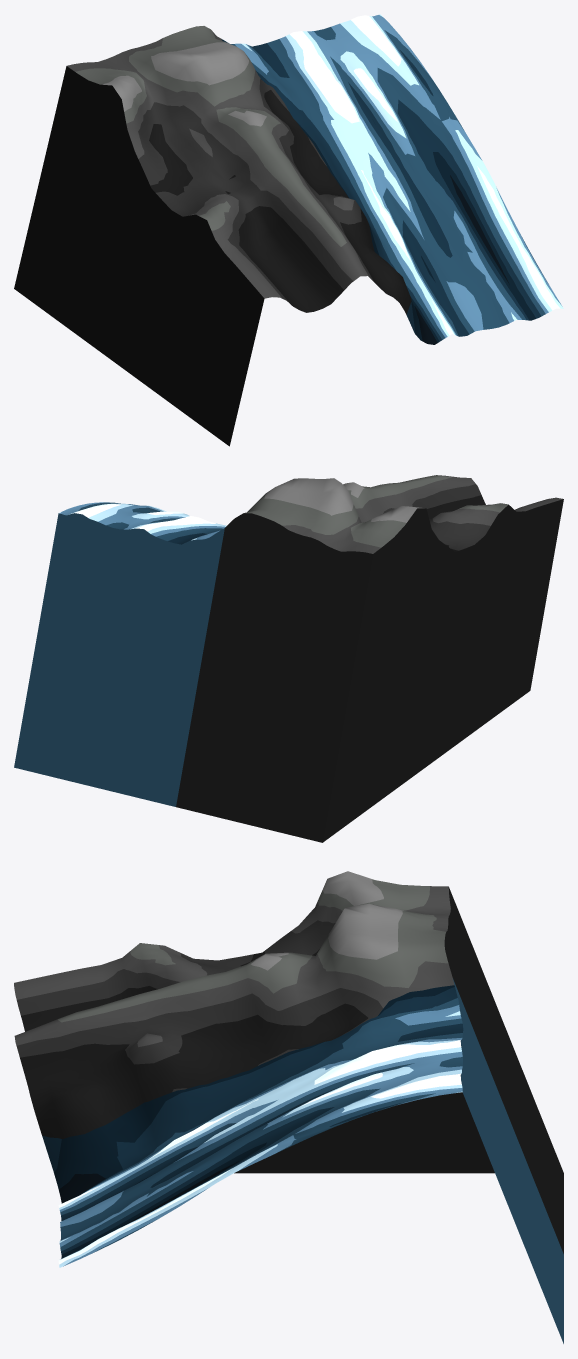
The model's file is torm_fall_tl_117.glb.
The picture shows the model from 3 angles, top to bottom: view 1: azimuth 30°, elevation 25°; view 2: azimuth 150°, elevation 25°; view 3: azimuth 270°, elevation 25°; orthographic projection. The views are drawn at different scales.
Parts seen in each view (by area): view 1: torm_fall_tl_117; view 2: torm_fall_tl_117; view 3: torm_fall_tl_117.
Boxes of the visible parts, x1,y1,x2,y2 form: torm_fall_tl_117: (14, 14, 563, 446); torm_fall_tl_117: (14, 475, 563, 842); torm_fall_tl_117: (14, 871, 563, 1343).
Bounding box in the file's own units: 24 × 20.32 × 32.52.
